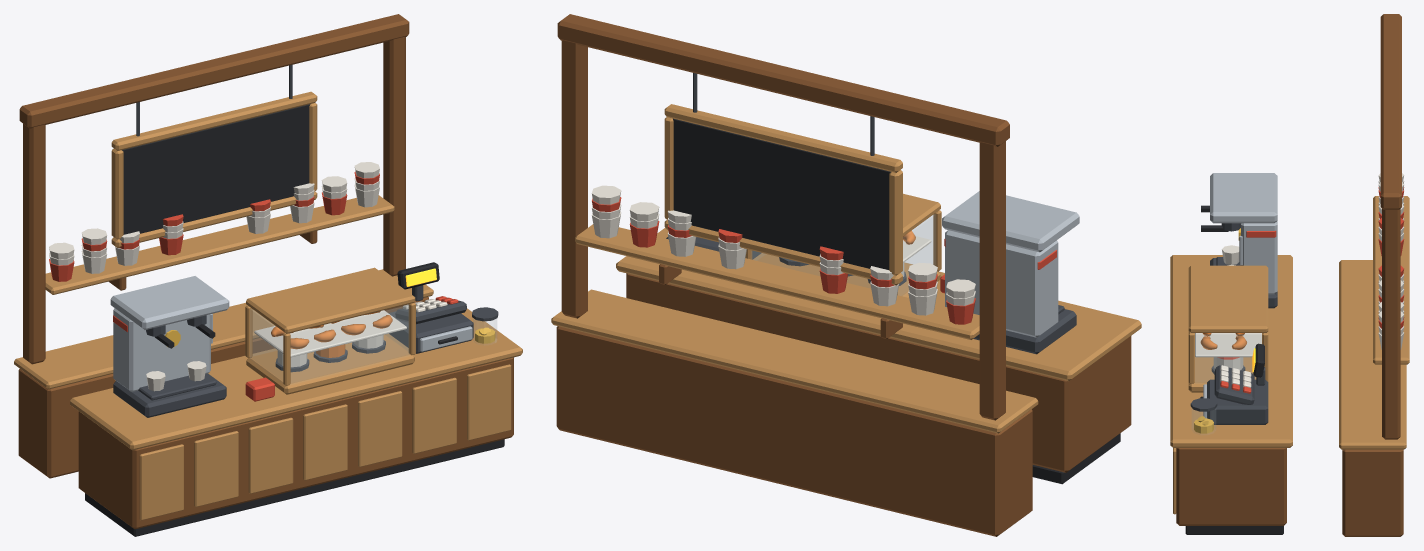
File: cafe-counter.glb
3 views of the same model, side by side, from view 1: azimuth 30°, elevation 25°; view 2: azimuth 150°, elevation 25°; view 3: azimuth 270°, elevation 25° (orthographic). The views are drawn at different scales.
Parts seen in each view (by area): view 1: MenuBoard, Counter_Body, Counter_Top, Back_Beam, Back_Cabinet, Cup_Shelf, PC_Roof, PC_Glass_Front, Back_Post_L, Back_Post_R, Back_Top, CM_Body (+21 smaller); view 2: Back_Cabinet, MenuBoard, Back_Top, Counter_Body, Back_Beam, Counter_Top, Cup_Shelf, Back_Post_L, Back_Post_R, CM_Body, CM_Top, MenuBoard_Frame_T (+9 smaller); view 3: Counter_Top, Counter_Body, Back_Top, PC_Roof, Back_Cabinet, Back_Post_R, Back_Beam, CM_Top, Cup_Shelf, PC_Glass_Side_1, CR_Base, CM_Body (+9 smaller).
Part boxes in pixels (box(x1,y1,x2,y2)): MenuBoard: box(122, 104, 310, 234); Counter_Body: box(78, 357, 513, 529); Counter_Top: box(70, 308, 522, 450); Back_Beam: box(19, 14, 409, 128); Back_Cabinet: box(18, 297, 428, 478); Cup_Shelf: box(45, 195, 394, 294); PC_Roof: box(246, 267, 415, 333); PC_Glass_Front: box(290, 305, 409, 383); Back_Post_L: box(23, 124, 45, 364); Back_Post_R: box(383, 36, 405, 276); Back_Top: box(14, 269, 433, 389); CM_Body: box(113, 308, 210, 391); Back_Cabinet: box(556, 326, 1032, 536); MenuBoard: box(673, 118, 890, 269); Back_Top: box(551, 289, 1038, 433); Counter_Body: box(626, 273, 1131, 472); Back_Beam: box(557, 14, 1009, 146); Counter_Top: box(616, 228, 1141, 381); Cup_Shelf: box(575, 224, 979, 339); Back_Post_L: box(979, 141, 1005, 420); Back_Post_R: box(561, 40, 587, 318); CM_Body: box(945, 230, 1058, 337); CM_Top: box(942, 191, 1079, 252); MenuBoard_Frame_T: box(664, 104, 902, 172); Counter_Top: box(1170, 255, 1292, 447); Counter_Body: box(1176, 448, 1286, 525); Back_Top: box(1339, 260, 1406, 449); PC_Roof: box(1188, 265, 1268, 332); Back_Cabinet: box(1342, 449, 1403, 536); Back_Post_R: box(1382, 208, 1400, 439); Back_Beam: box(1380, 14, 1401, 209); CM_Top: box(1210, 173, 1277, 223); Cup_Shelf: box(1373, 196, 1409, 364); PC_Glass_Side_1: box(1195, 334, 1261, 382); CR_Base: box(1207, 379, 1268, 424); CM_Body: box(1241, 221, 1277, 294).
Bounding box in the file's own units: 14.4 × 12.35 × 7.8.
